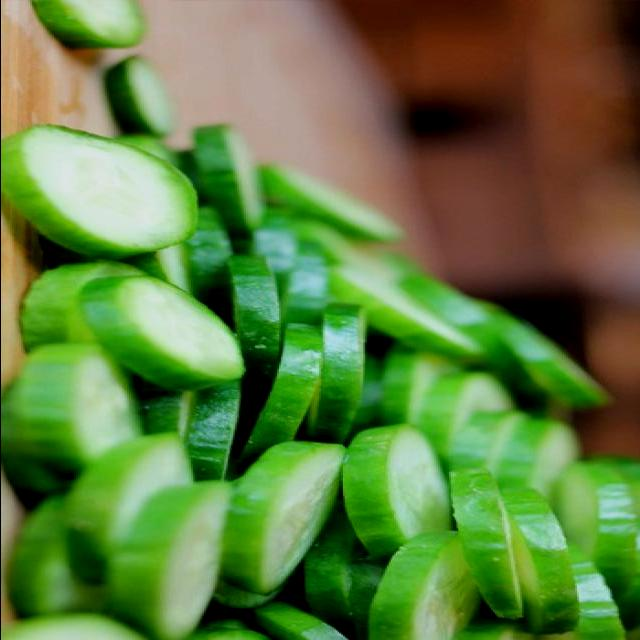cucumber: (7, 129, 205, 256), (224, 446, 348, 600), (70, 440, 198, 586), (118, 483, 233, 640), (103, 278, 247, 390), (351, 428, 449, 560), (305, 302, 365, 442)
